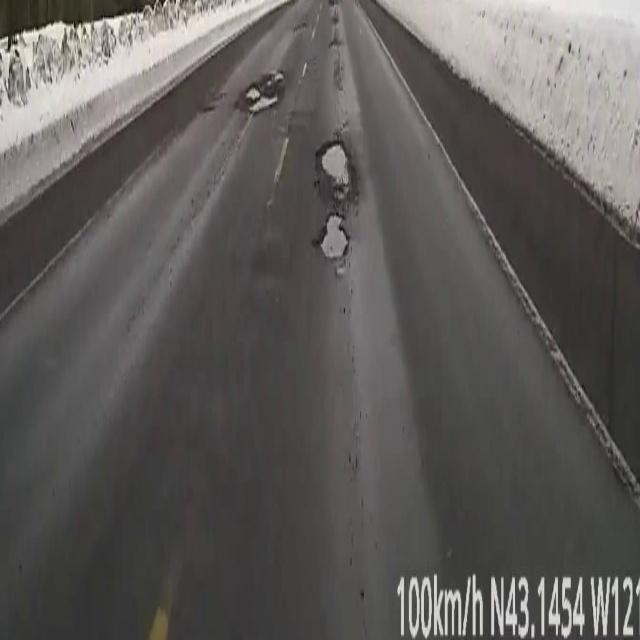pothole: (314, 138, 357, 274), (243, 72, 284, 116), (329, 0, 341, 83)
